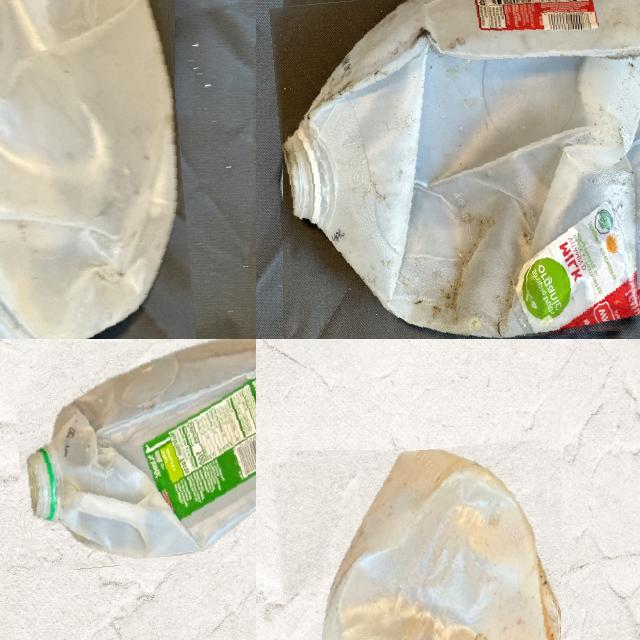milk-jug: (275, 0, 640, 339), (0, 0, 187, 339), (280, 443, 570, 640), (14, 339, 256, 568)
